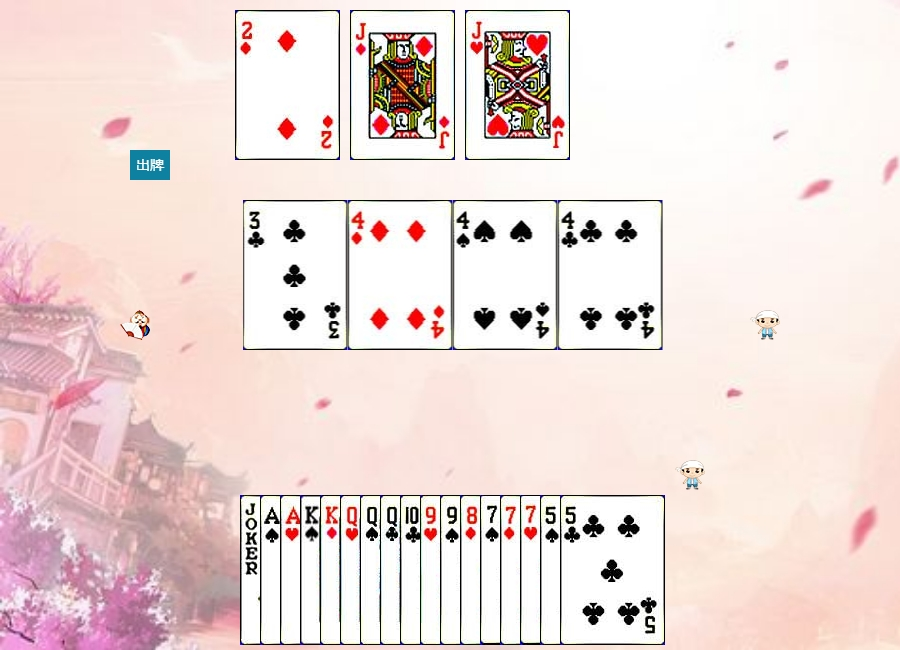10~2: (400, 495, 505, 645)
11~1: (350, 10, 455, 160)
11~3: (465, 10, 570, 160)
12~2: (380, 495, 485, 645)
12~3: (340, 495, 445, 645)
12~4: (360, 495, 465, 645)
13~1: (320, 495, 425, 645)
13~4: (300, 495, 405, 645)
14~3: (280, 495, 385, 645)
14~4: (260, 495, 365, 645)
15~1: (235, 10, 340, 160)
17~3: (240, 495, 345, 645)
3~2: (243, 200, 348, 350)
4~1: (348, 200, 453, 350)
4~2: (558, 200, 663, 350)
4~4: (453, 200, 558, 350)
5~2: (560, 495, 665, 645)
5~4: (540, 495, 645, 645)
7~1: (500, 495, 605, 645)
7~3: (520, 495, 625, 645)
7~4: (480, 495, 585, 645)
8~1: (460, 495, 565, 645)
9~3: (420, 495, 525, 645)
9~4: (440, 495, 545, 645)
